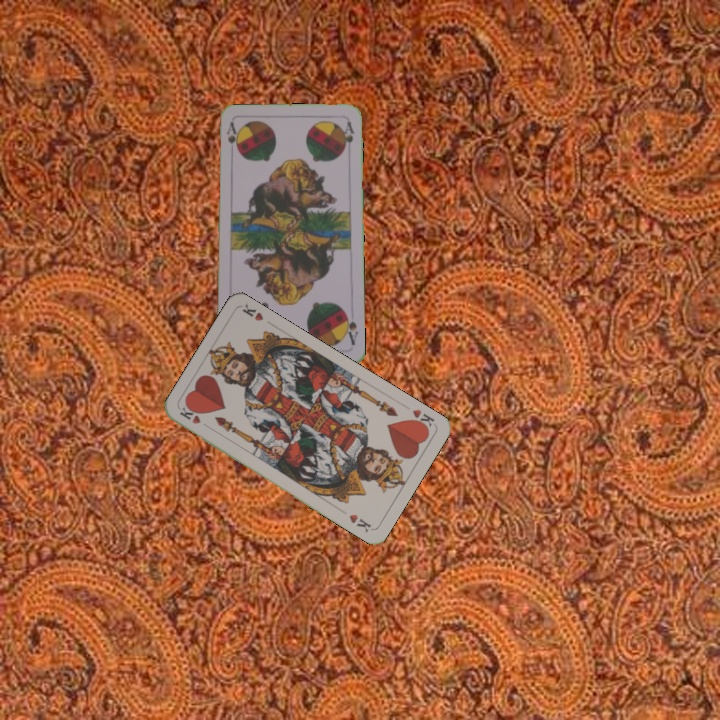HK: (406, 405, 437, 433), (175, 403, 203, 427)
SA: (340, 306, 360, 347), (223, 119, 237, 146)
